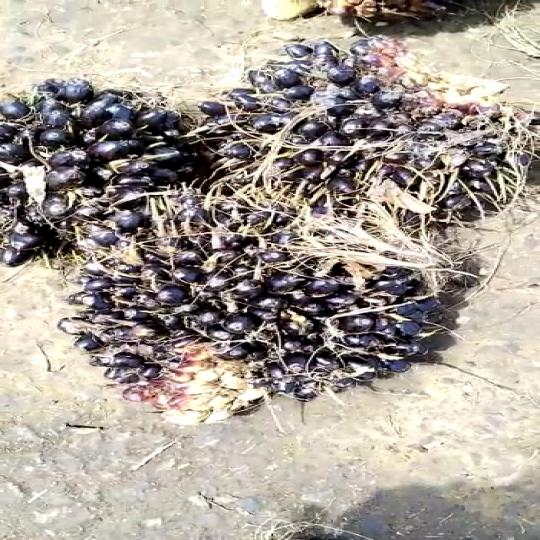mentah: (40, 193, 466, 418), (232, 46, 514, 234), (0, 70, 218, 278)
